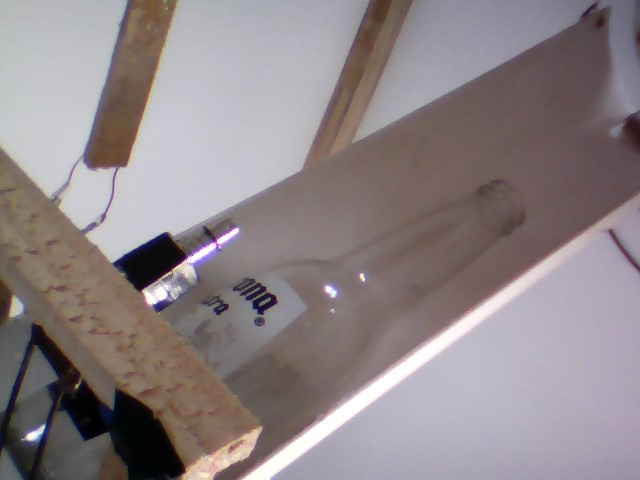vidrio: (165, 172, 537, 424)
